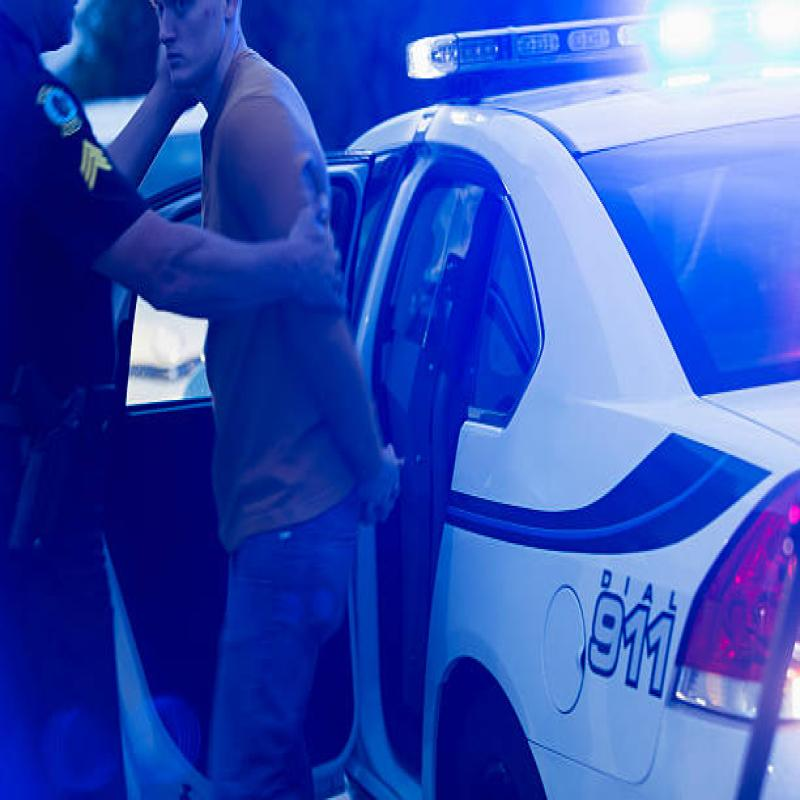AmbulanceSiren: (391, 2, 800, 110)
